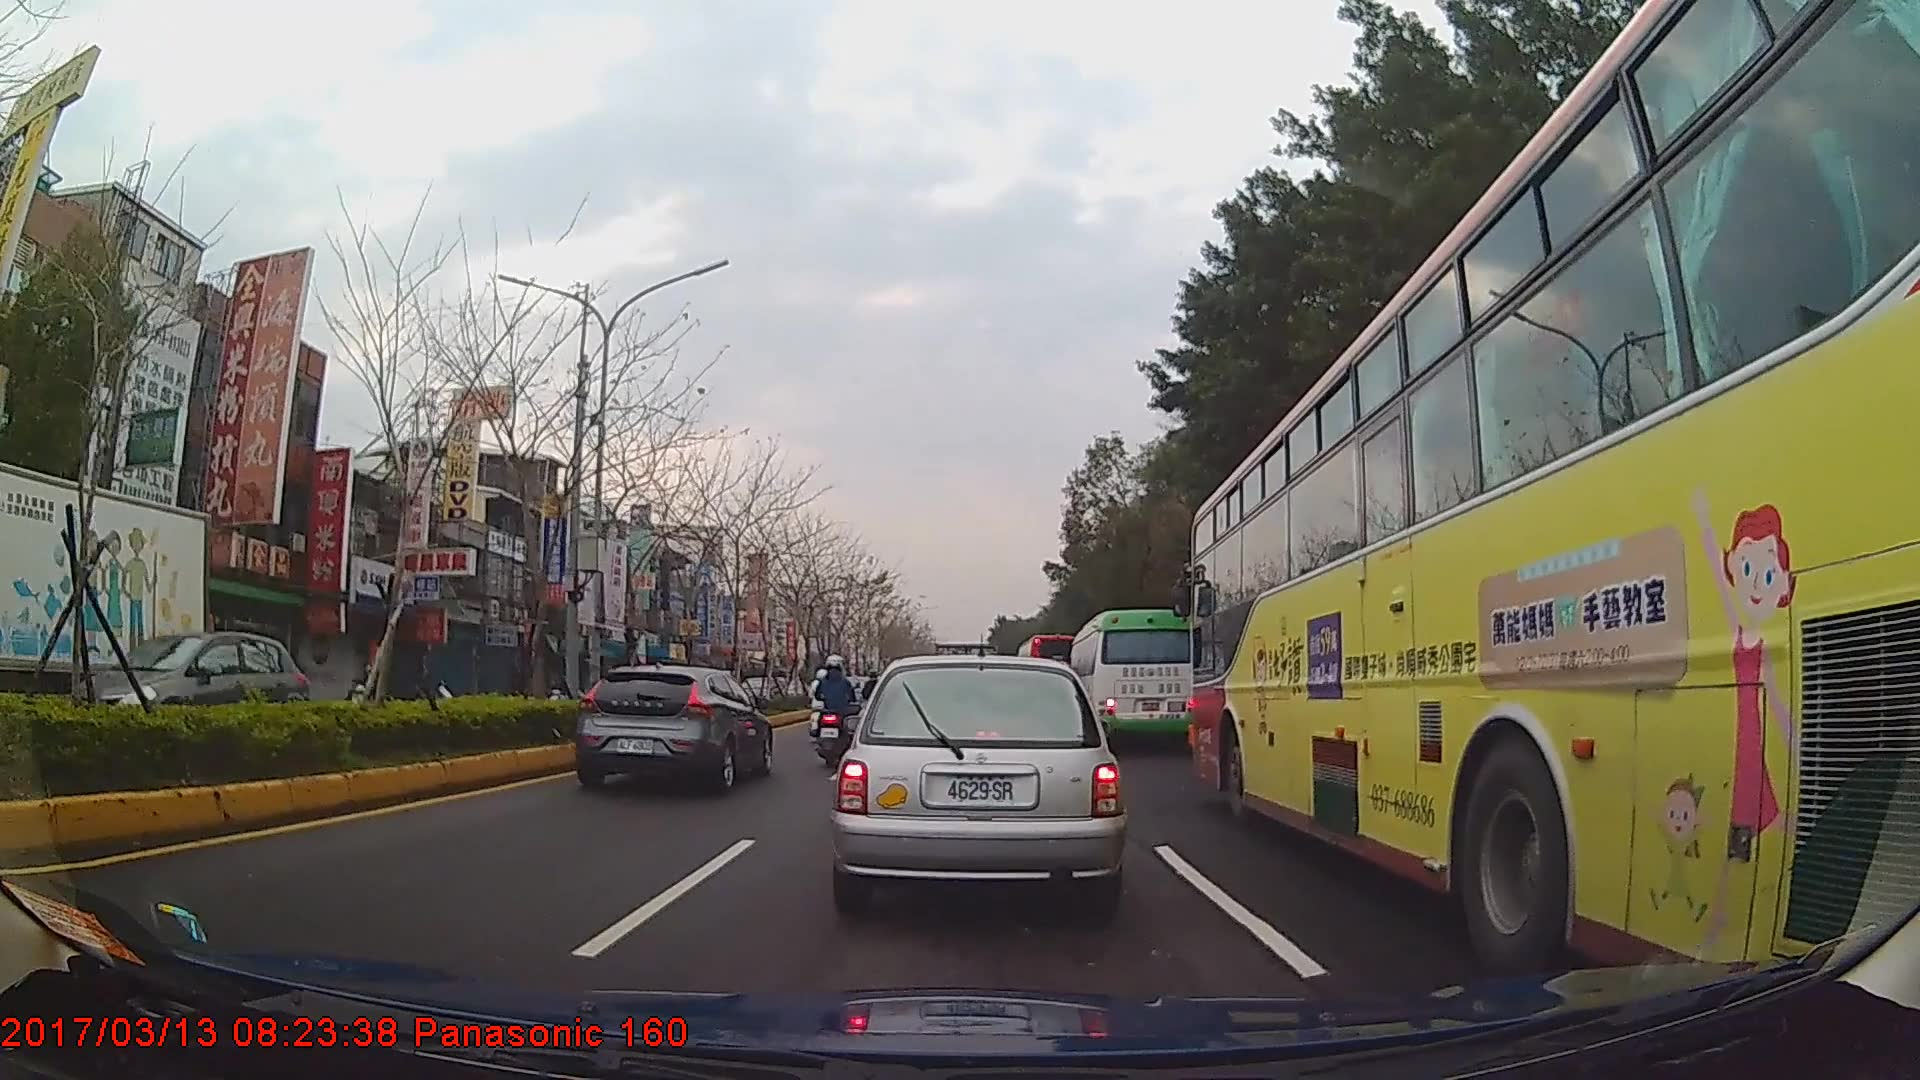rider: (813, 654, 860, 753)
vehicle: (1184, 0, 1920, 1030), (831, 649, 1124, 919), (0, 461, 211, 733), (71, 628, 310, 750), (572, 662, 775, 795), (1066, 607, 1198, 750), (1014, 631, 1083, 707)
